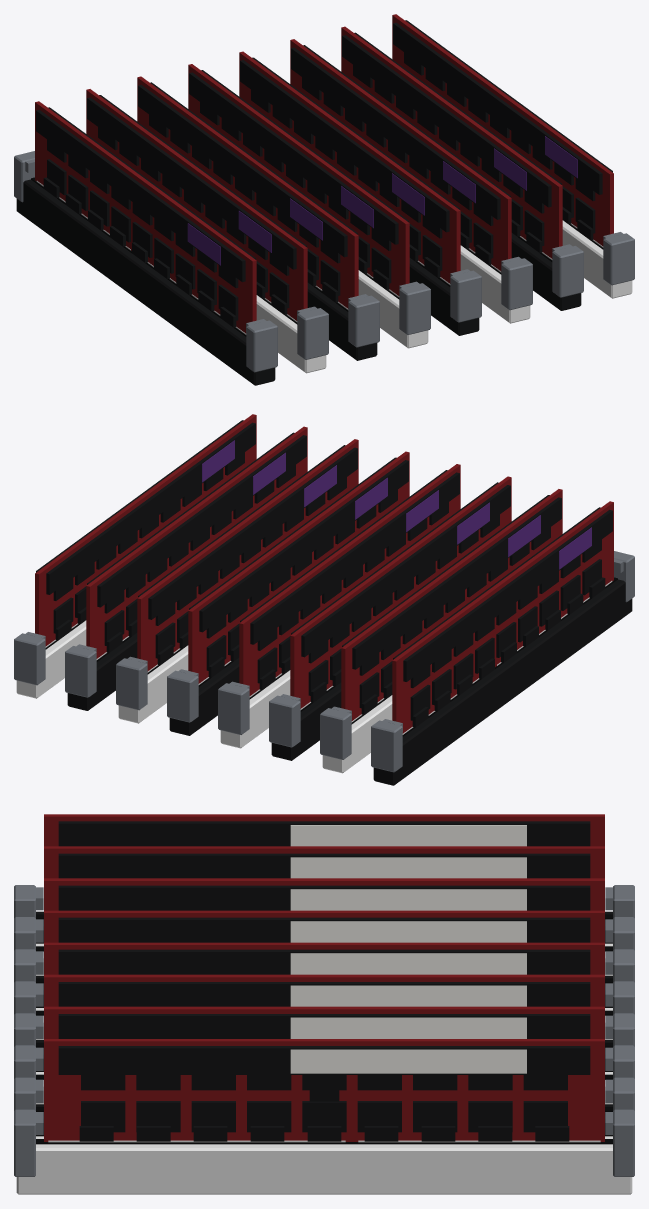
The model's file is hwm_ram_ddr5_192gb.glb.
The picture shows the model from 3 angles, top to bottom: view 1: azimuth 30°, elevation 25°; view 2: azimuth 150°, elevation 25°; view 3: azimuth 270°, elevation 25°; orthographic projection. The views are drawn at different scales.
Visible parts, largest first — view 1: Slots, Stick_0, Stick_7, Stick_2, Stick_6, Stick_3, Stick_5, Stick_4, Stick_1, Latch_5_1, Latch_0_1, Latch_1_1 (+6 smaller); view 2: Slots, Stick_0, Stick_7, Stick_2, Stick_6, Stick_3, Stick_5, Stick_4, Stick_1, Latch_5_0, Latch_0_0, Latch_1_0 (+6 smaller); view 3: Stick_7, Slots, Stick_0, Stick_1, Stick_2, Stick_3, Stick_4, Stick_5, Stick_6, Latch_7_0, Latch_7_1, Latch_1_0 (+13 smaller).
Part boxes in pixels (x1,y1,x2,y2): Slots: (16,177,632,385); Stick_0: (35,101,256,334); Stick_7: (392,14,613,247); Stick_2: (137,76,358,309); Stick_6: (341,26,562,259); Stick_3: (188,64,409,297); Stick_5: (290,39,511,272); Stick_4: (239,51,460,284); Stick_1: (86,89,307,322); Latch_5_1: (501,256,532,310); Latch_0_1: (246,319,277,372); Latch_1_1: (297,306,328,359); Slots: (16,577,632,785); Stick_0: (392,501,613,734); Stick_7: (35,414,256,647); Stick_2: (290,476,511,709); Stick_6: (86,426,307,659); Stick_3: (239,464,460,697); Stick_5: (137,439,358,672); Stick_4: (188,451,409,684); Stick_1: (341,489,562,722); Latch_5_0: (116,656,147,710); Latch_0_0: (371,719,402,772); Latch_1_0: (320,706,351,759); Stick_7: (44,1039,604,1142); Slots: (16,911,632,1194); Stick_0: (44,814,604,846); Stick_1: (44,846,604,878); Stick_2: (44,878,604,910); Stick_3: (44,910,604,942); Stick_4: (44,942,604,974); Stick_5: (44,974,604,1006); Stick_6: (44,1006,604,1038); Latch_7_0: (605,1109,634,1176); Latch_7_1: (14,1109,43,1176); Latch_1_0: (605,917,634,950).
Bounding box in the file's own units: 0.1346 × 0.0389 × 0.1472.
